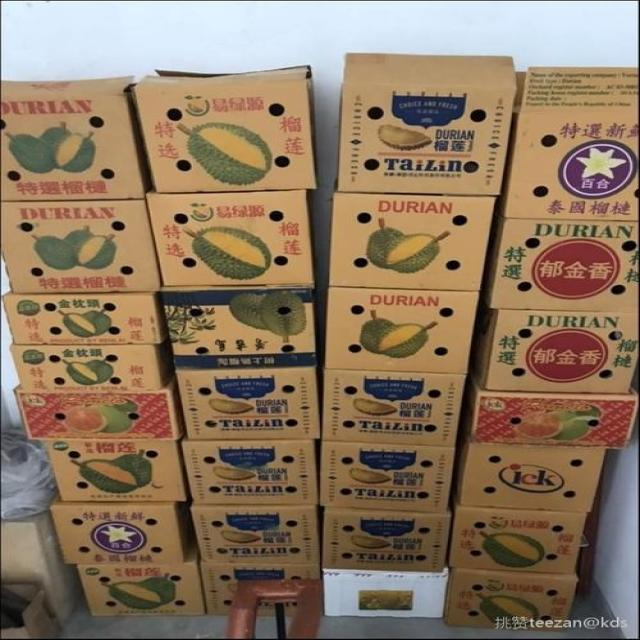box: (339, 52, 519, 194), (129, 66, 316, 190), (497, 67, 638, 222), (0, 73, 146, 201), (467, 292, 639, 393), (329, 191, 497, 290), (147, 187, 314, 286), (0, 199, 160, 294), (481, 219, 638, 313), (460, 367, 639, 449), (452, 420, 607, 510), (160, 281, 320, 368), (324, 287, 480, 375), (16, 372, 185, 442), (445, 497, 589, 576), (321, 367, 466, 445), (45, 491, 195, 563), (180, 364, 324, 438), (0, 286, 170, 345), (78, 541, 206, 617), (318, 440, 454, 511), (0, 507, 84, 620), (44, 439, 193, 501), (321, 505, 458, 572), (6, 335, 174, 388), (179, 441, 321, 501), (187, 502, 321, 563), (450, 565, 582, 626), (319, 566, 451, 619), (198, 560, 318, 615), (4, 580, 66, 638)
